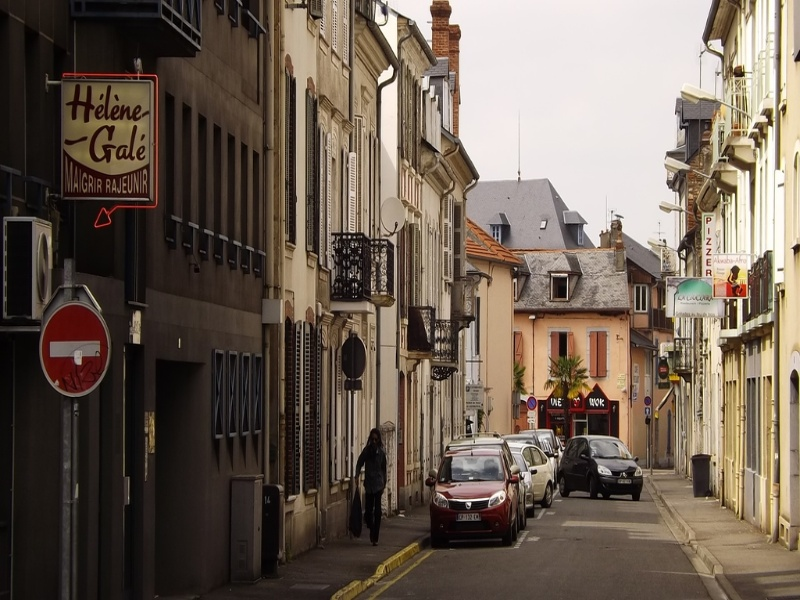no_entry: (44, 304, 123, 398)
